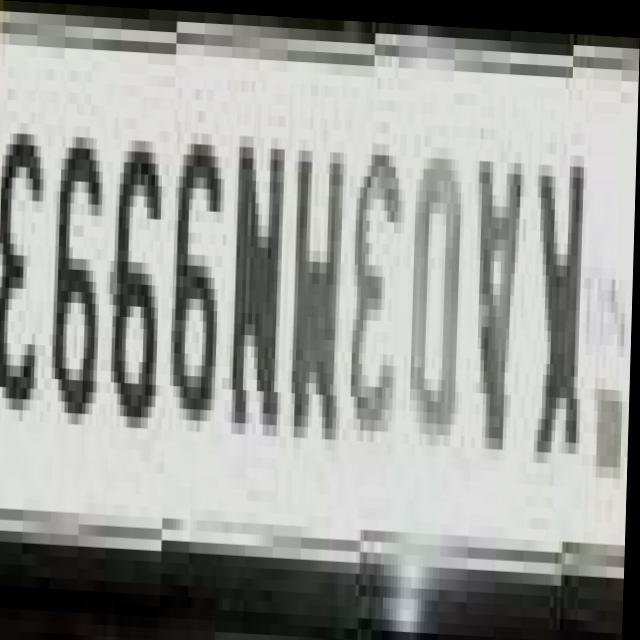0: (408, 139, 465, 432)
3: (349, 139, 404, 440), (0, 126, 48, 419)
9: (168, 131, 227, 435), (49, 129, 107, 419), (113, 124, 167, 425)
a: (469, 140, 527, 450)
k: (529, 151, 592, 459)
m: (290, 146, 349, 442)
n: (233, 132, 289, 437)
